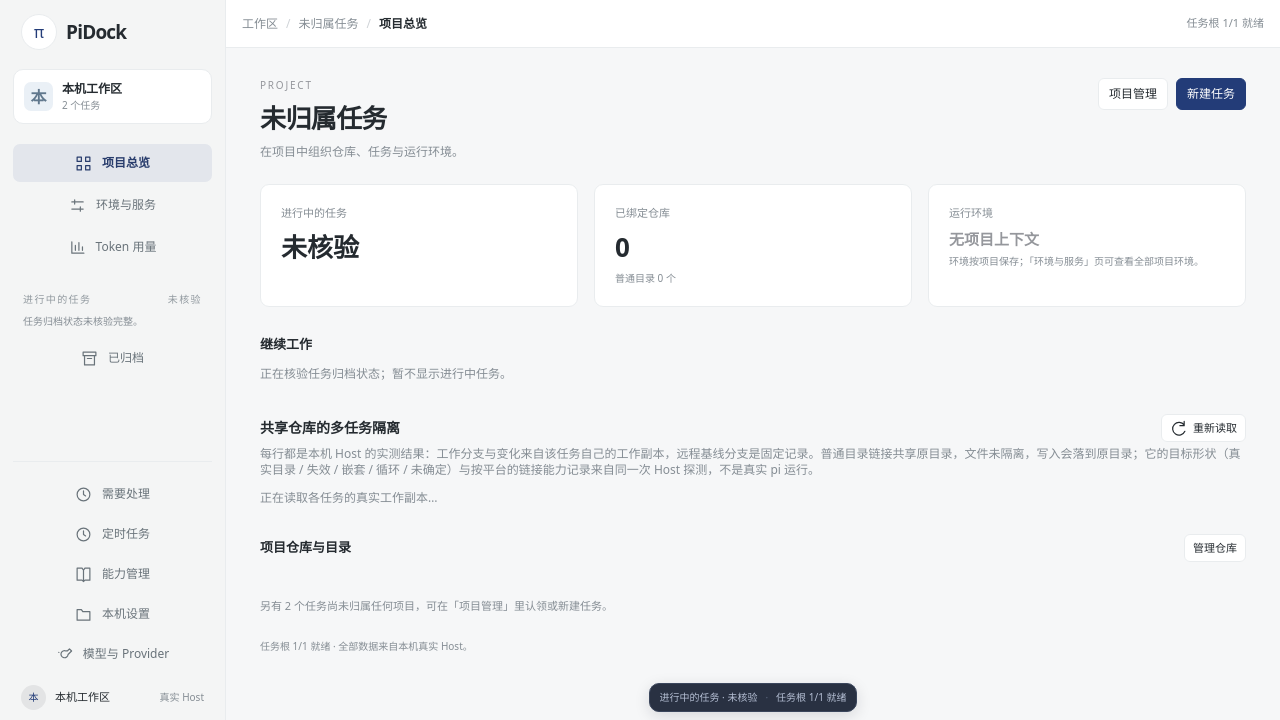
it: Desktop inventory pending creation recovery › abandons from the task row, shows main's retained-files explanation, and refreshes the list
Click the button "项目管理": [1133, 94] box x1=1098 y1=78 x2=1168 y2=110
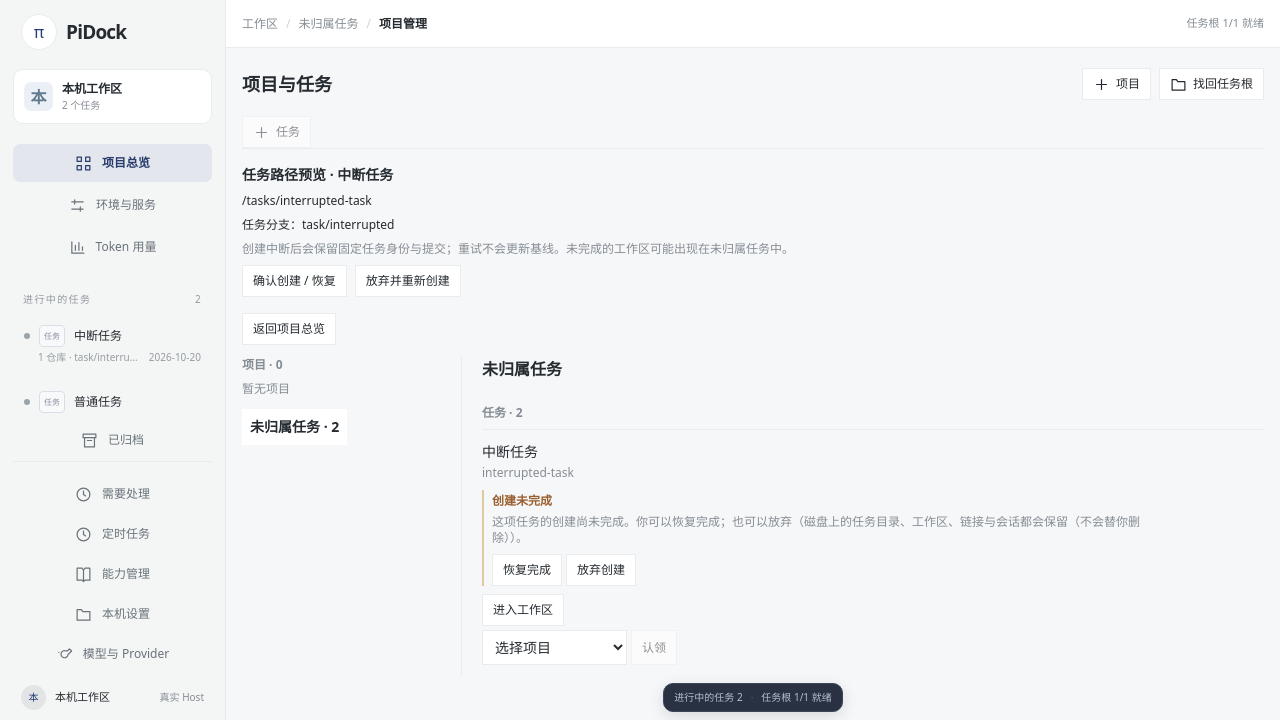
Click the button "放弃创建": [601, 570] box x1=566 y1=554 x2=636 y2=586
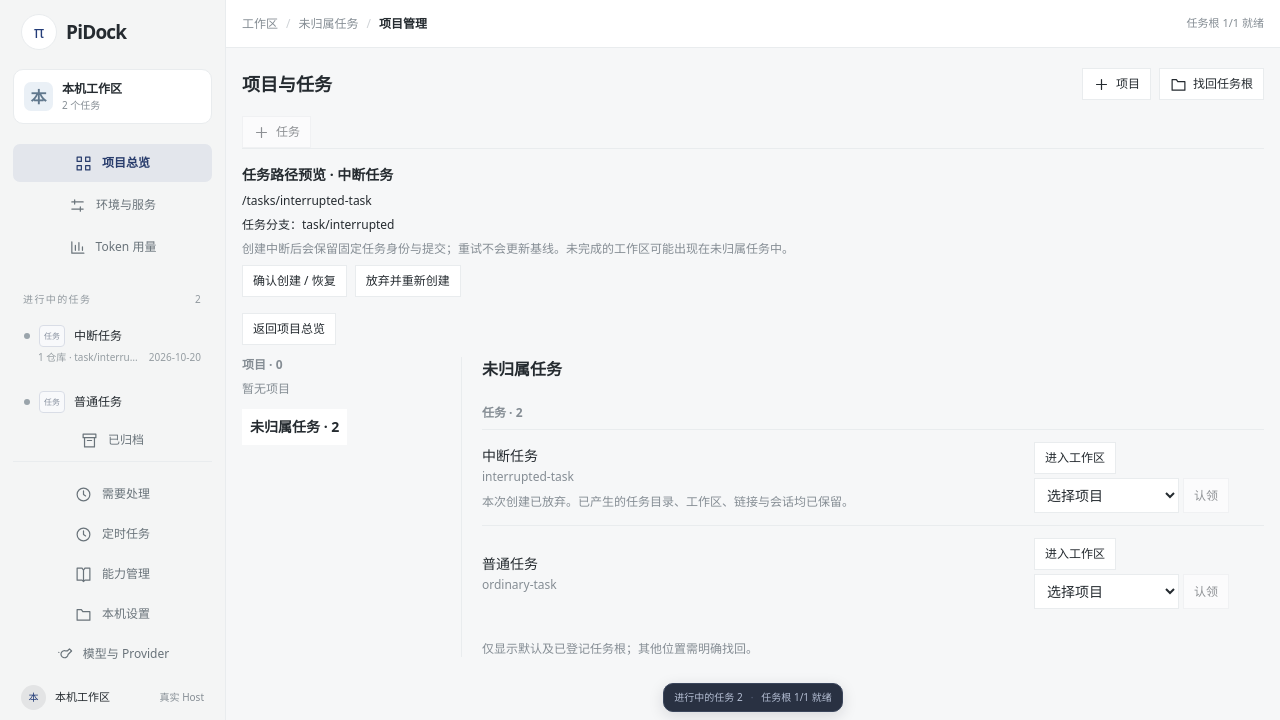
Check: the text "本次创建已放弃。已产生的任务目录、工作区、链接与会话均已保留。" is shown, box x1=482 y1=494 x2=854 y2=510
Check: the message reads "本次创建已放弃。已产生的任务目录、工作区、链接与会话均已保留。", box x1=482 y1=492 x2=854 y2=510
Check: the text "创建未完成" is gone
